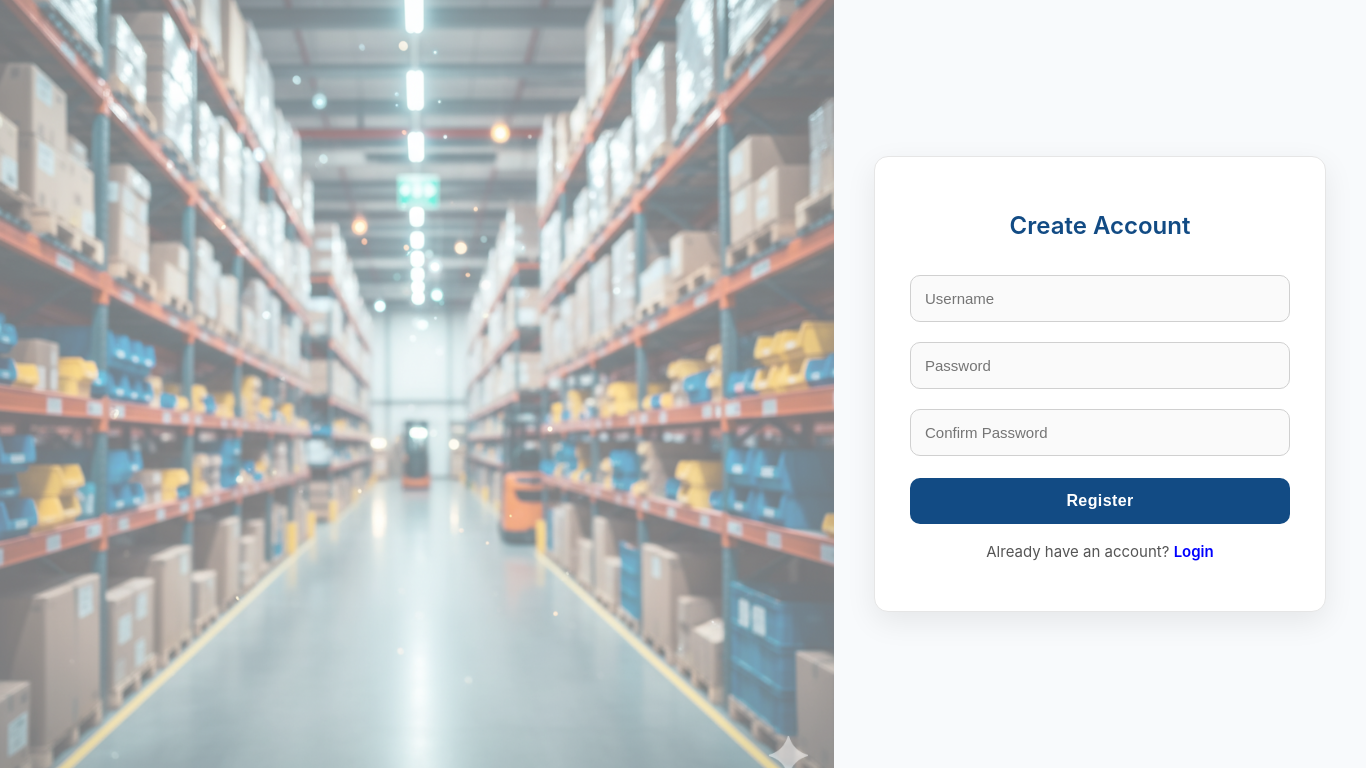
successful registration navigates to login after delay
The width and height of the screenshot is (1366, 768).
Type "newuser" into the field with placeholder "Username".
click(1100, 299); type("newuser")  # box x1=910 y1=276 x2=1290 y2=322
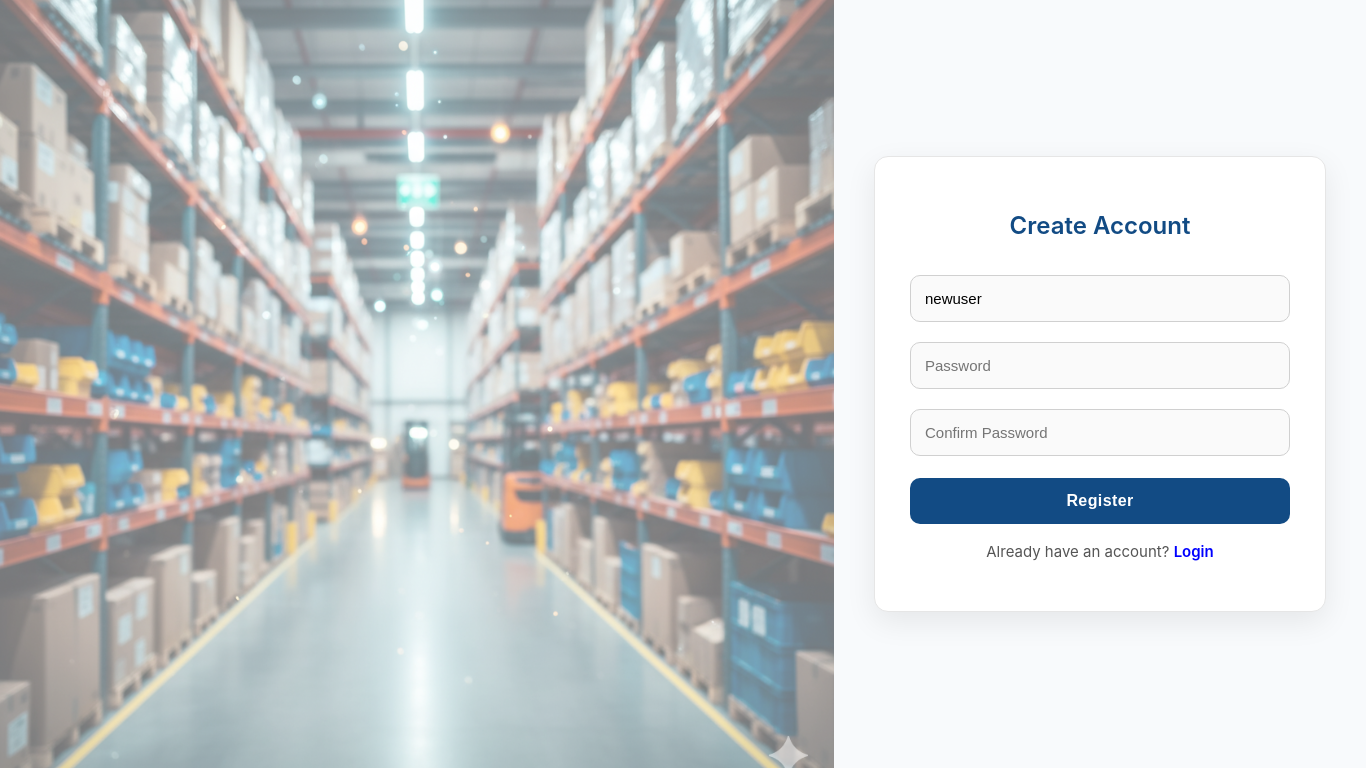
Type "secret" into the password field with placeholder "Password".
click(1100, 366); type("secret")  # box x1=910 y1=342 x2=1290 y2=390
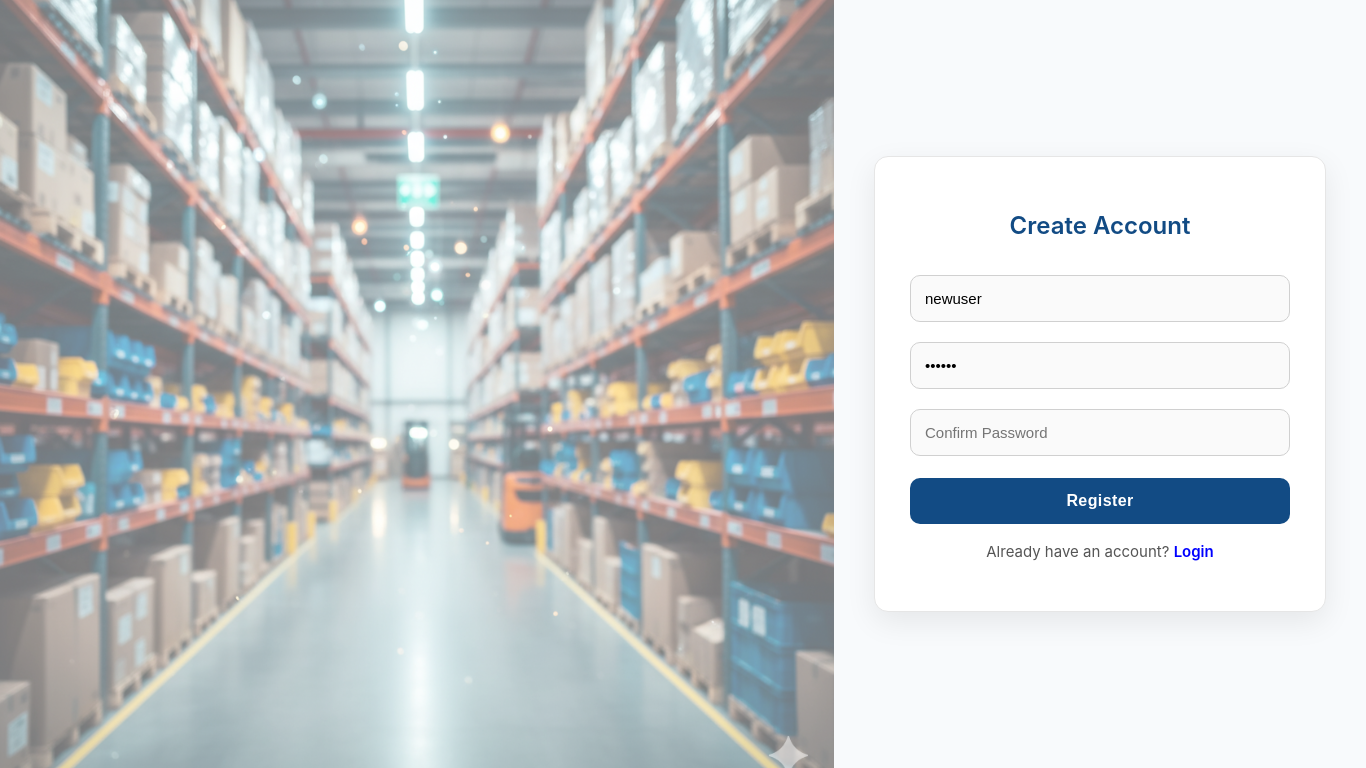
Type "secret" into the password field with placeholder "Confirm Password".
click(1100, 433); type("secret")  # box x1=910 y1=410 x2=1290 y2=456
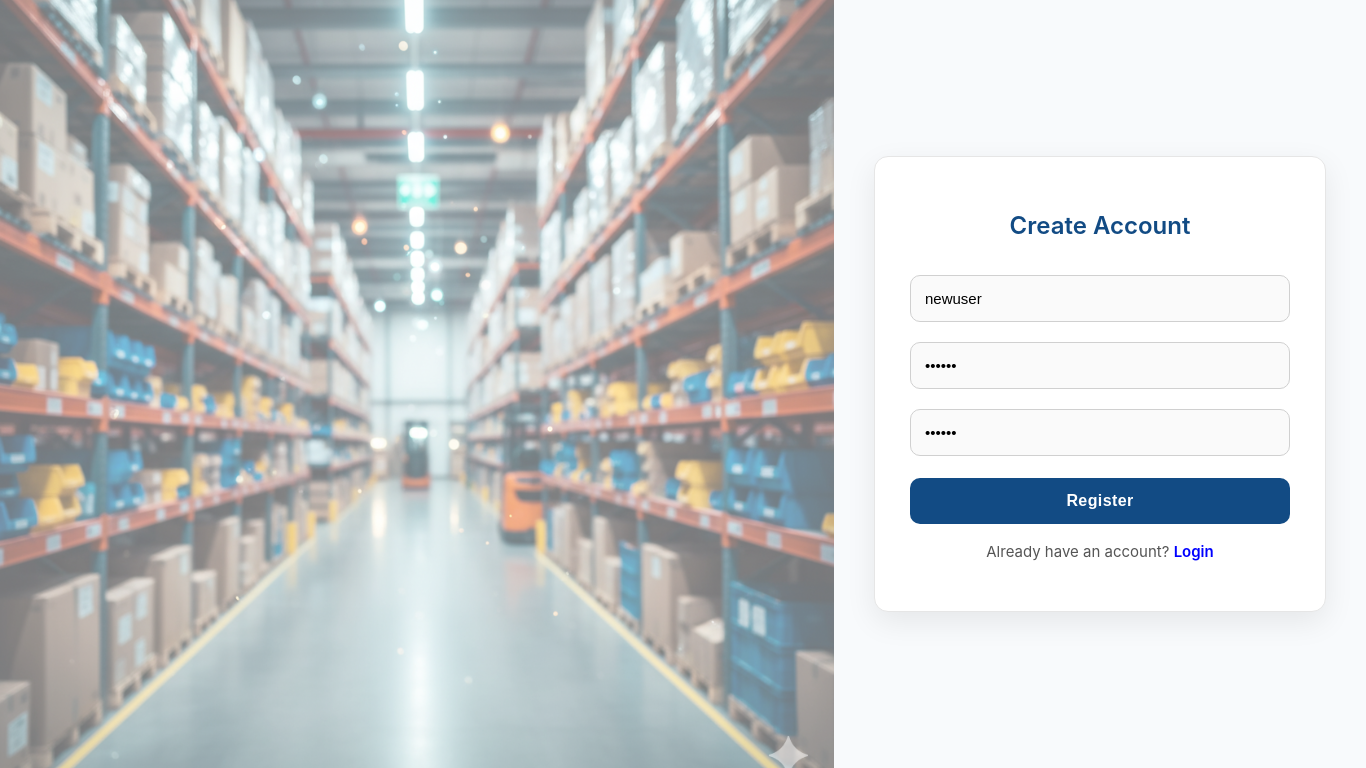
Click the button "Register".
click(1100, 502)  # box x1=910 y1=478 x2=1290 y2=524
Wait 1500 ms
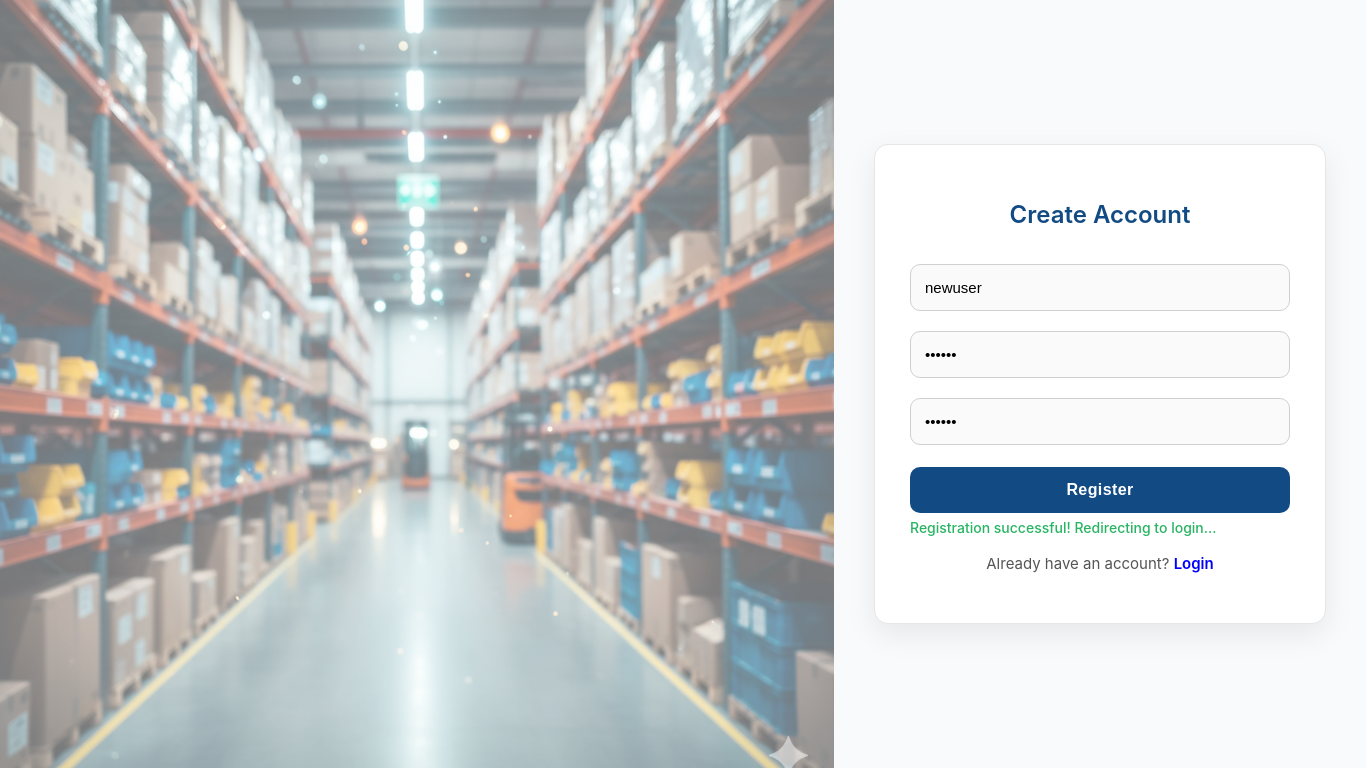
Check: the text "Registration successful! Redirecting to login..." is shown, box x1=910 y1=519 x2=1216 y2=536
